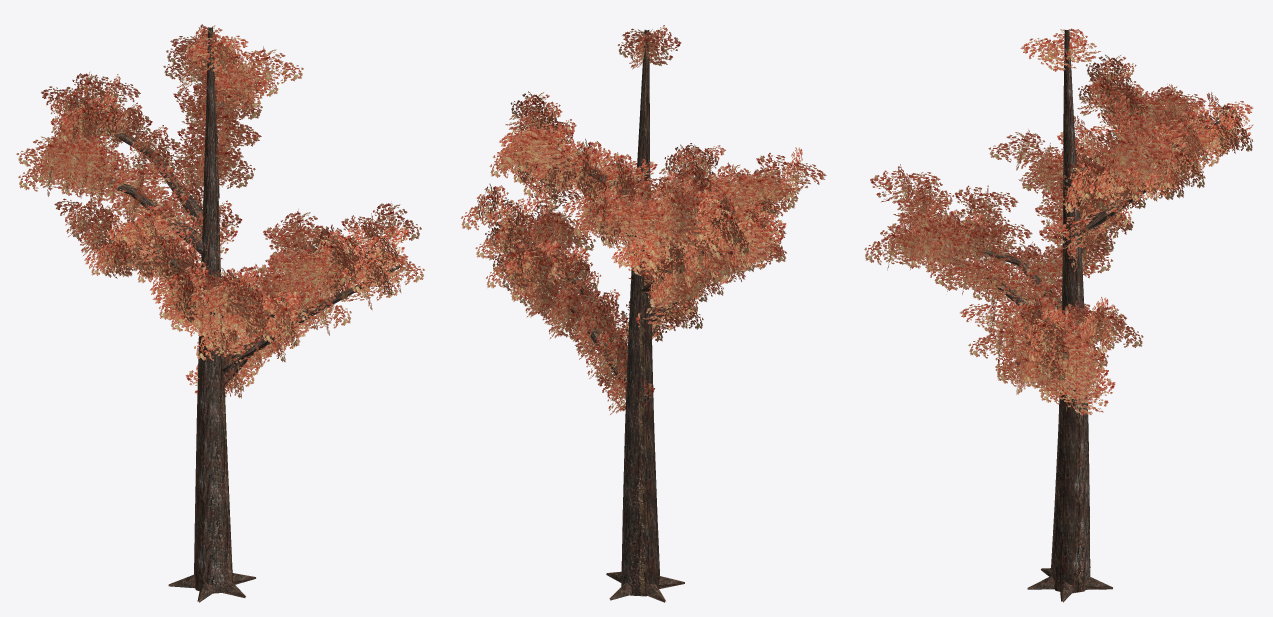
File: tree_3d_01_copper_lod1.glb
The picture shows the model from 3 angles, left to right: view 1: azimuth 30°, elevation 25°; view 2: azimuth 150°, elevation 25°; view 3: azimuth 270°, elevation 25°; orthographic projection.
Visible parts, largest first — view 1: foliage_cards, wood_geometry; view 2: foliage_cards, wood_geometry; view 3: foliage_cards, wood_geometry.
Part boxes in pixels (bbox=[...]): foliage_cards: bbox=[16, 24, 424, 398]; wood_geometry: bbox=[73, 27, 400, 602]; foliage_cards: bbox=[461, 25, 826, 414]; wood_geometry: bbox=[518, 30, 759, 602]; foliage_cards: bbox=[864, 28, 1253, 415]; wood_geometry: bbox=[909, 29, 1218, 602].
Size of the model in its own units: 6.63 by 10.07 by 6.51.
2 materials, 2 textured.
